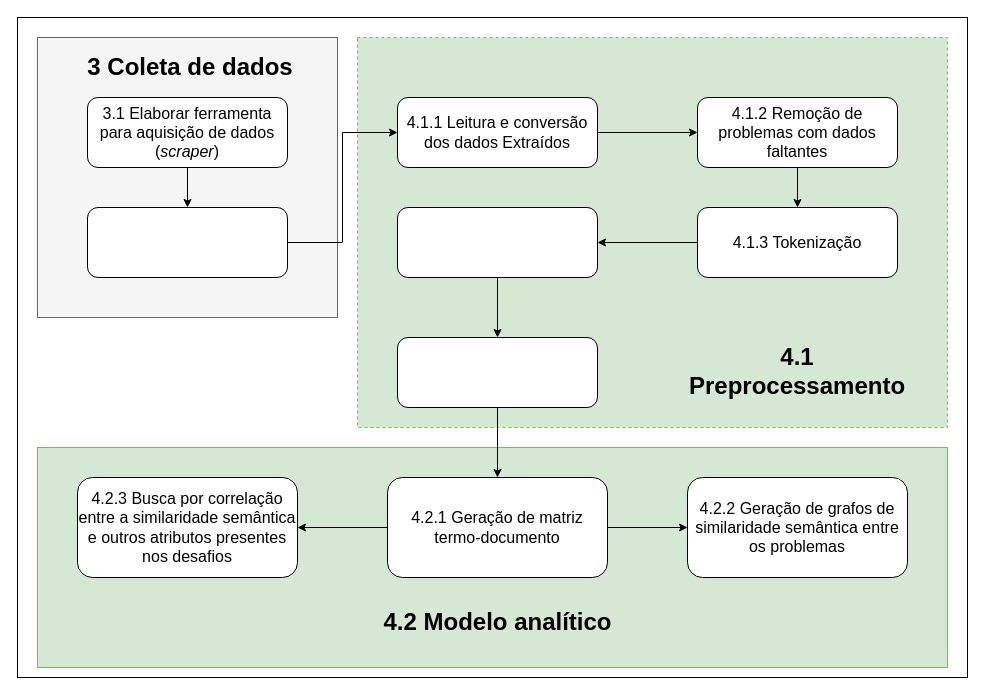
Some shapes in this 985 by 695 pixel diagram are drawn without their labels. The shapes that lost their labels are listed below. From the top down, each one's centre as x and y in pixels, then its label:
the point at 187,242: 3.2 Adquirir os dados do URI (com a ferramenta elaborada)
the point at 497,242: 4.1.4 Remoção de stopwords
the point at 497,372: 4.1.5 POS tagging e Lematização
